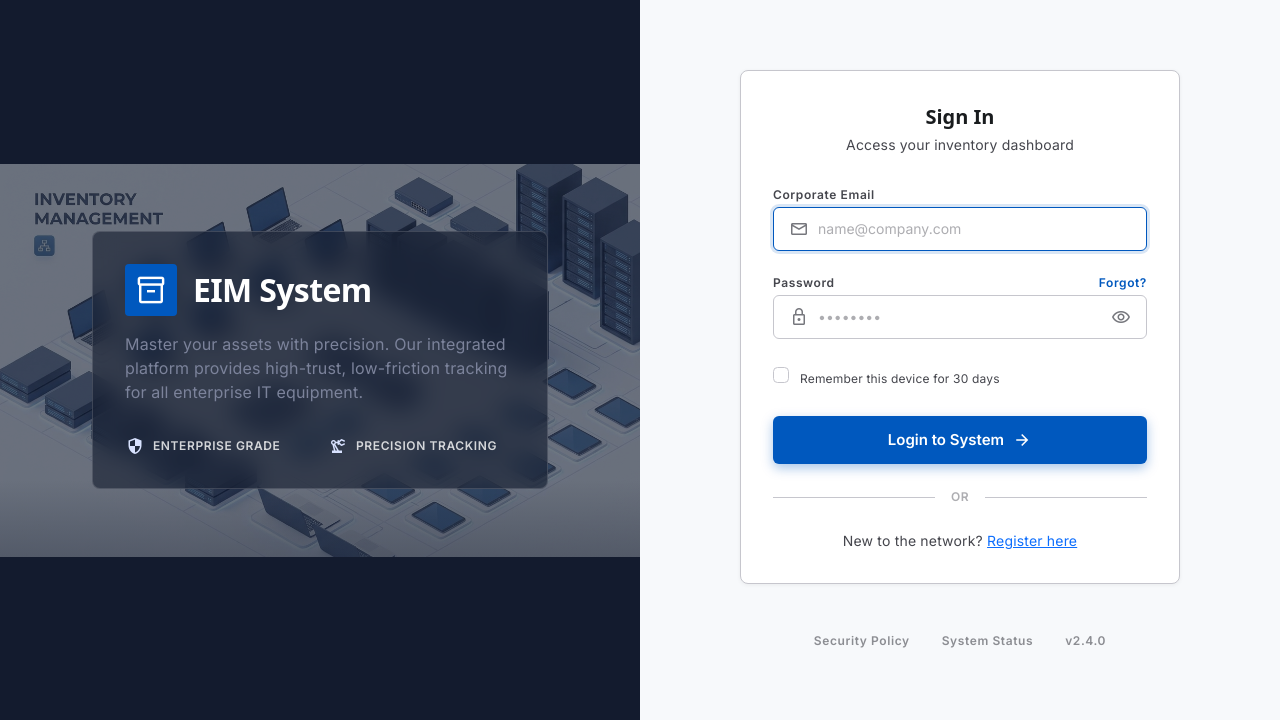
Scenario: Login Page › displays global error message when login fails
Step 1. Type "test@company.com" into the field labelled "Corporate Email" → (960, 229), box [773, 207, 1147, 251]
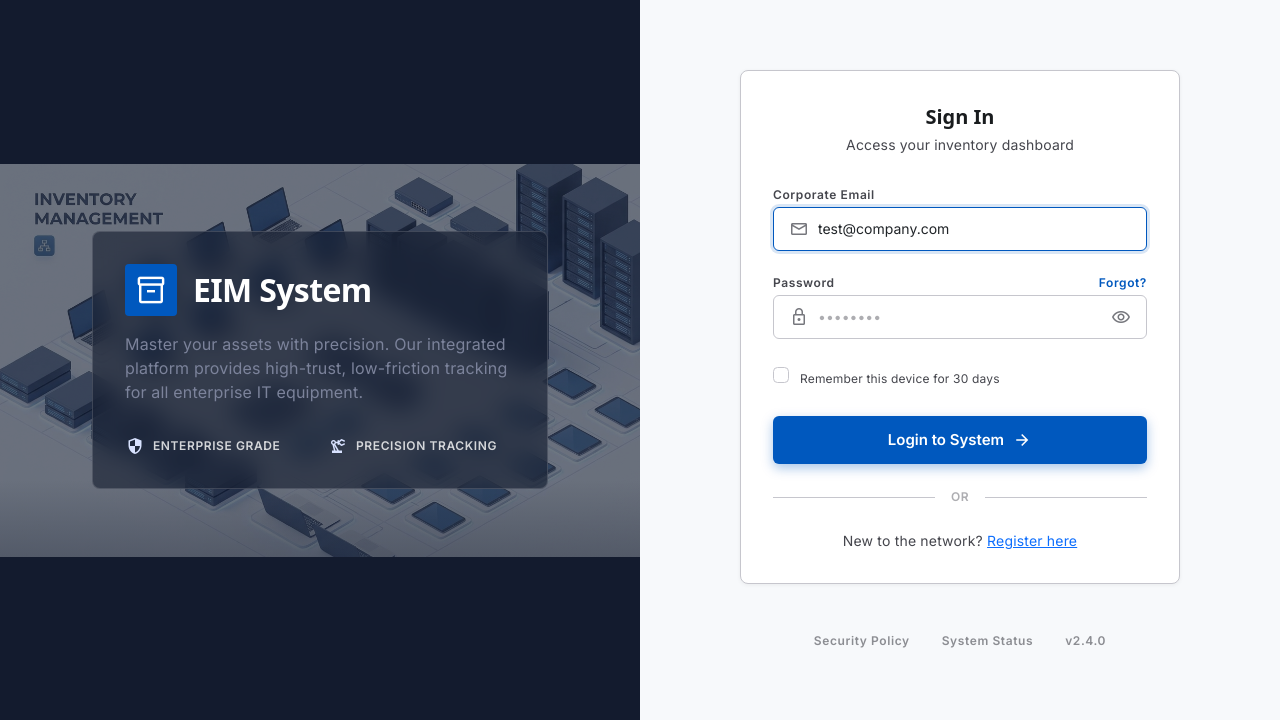
Step 2. Type "wrongpassword" into the password field labelled "Password" → (960, 317), box [773, 295, 1147, 339]
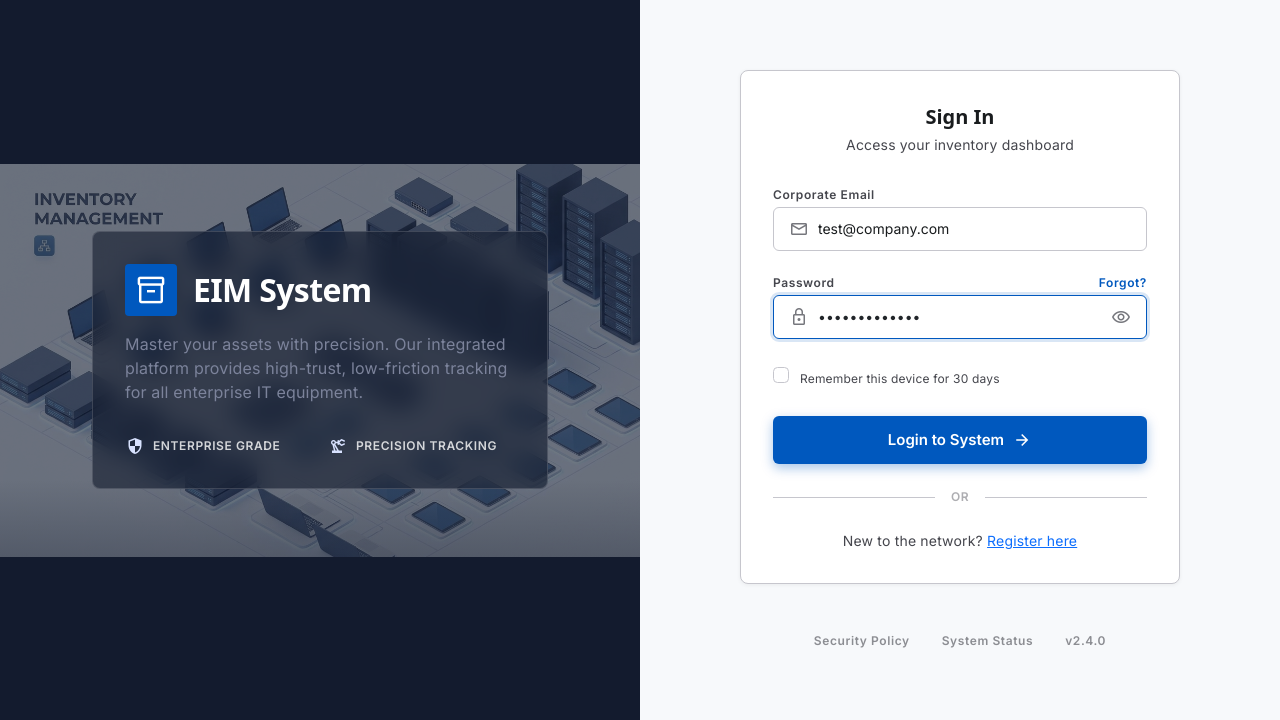
Step 3. Click the button "Login to System" → (960, 440), box [773, 416, 1147, 464]
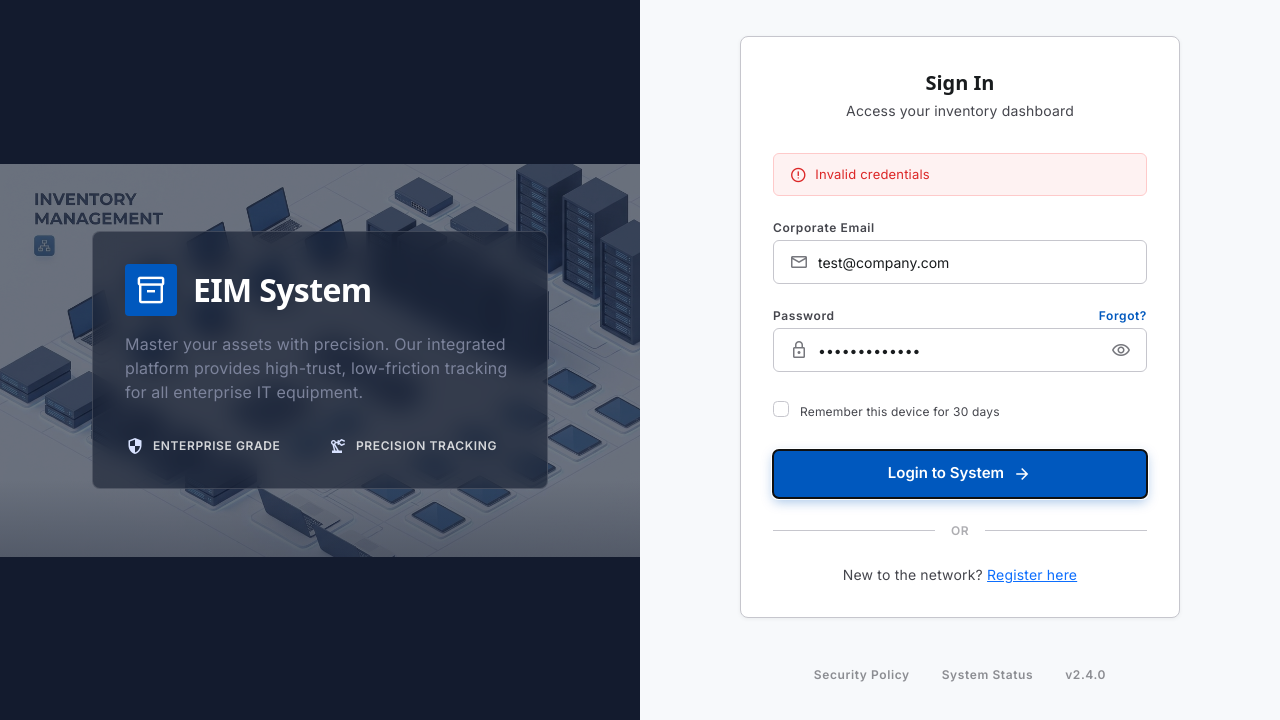
Now the message "Invalid credentials" is shown, box [773, 153, 1147, 196]
Now the message reads "Invalid credentials", box [815, 166, 930, 182]
